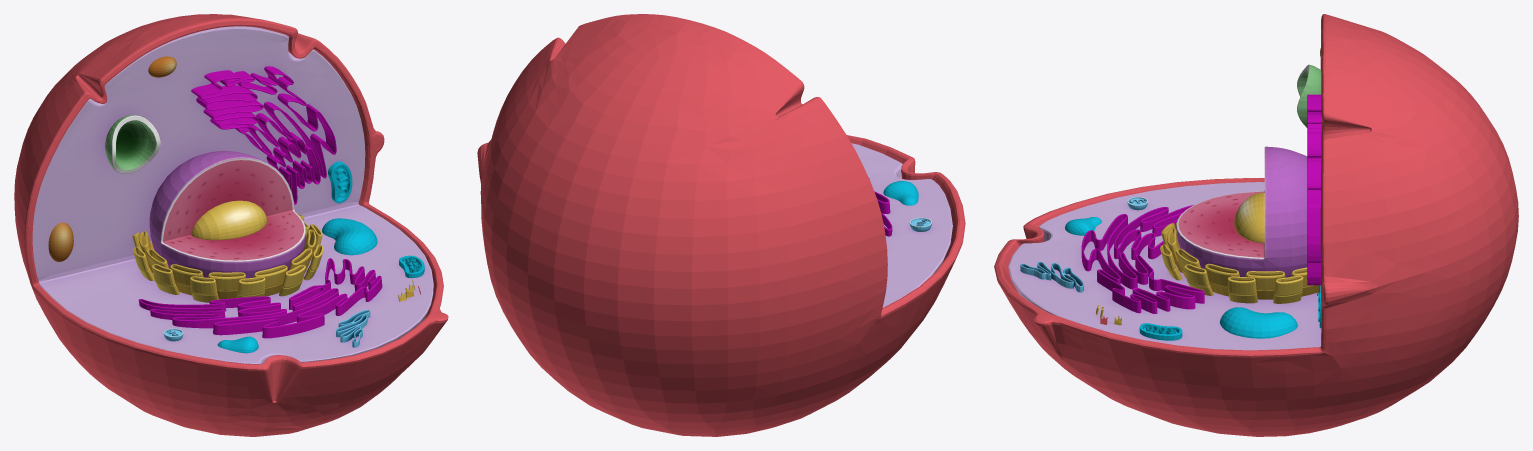
File: Animal Cell Detail.glb
3 renders of one model, left to right at view 1: azimuth 30°, elevation 25°; view 2: azimuth 150°, elevation 25°; view 3: azimuth 270°, elevation 25°, orthographic. The views are drawn at different scales.
Bounding box in the file's own units: 0.1442 × 0.1388 × 0.1737.
Materials: 2 (2 with a texture image).
